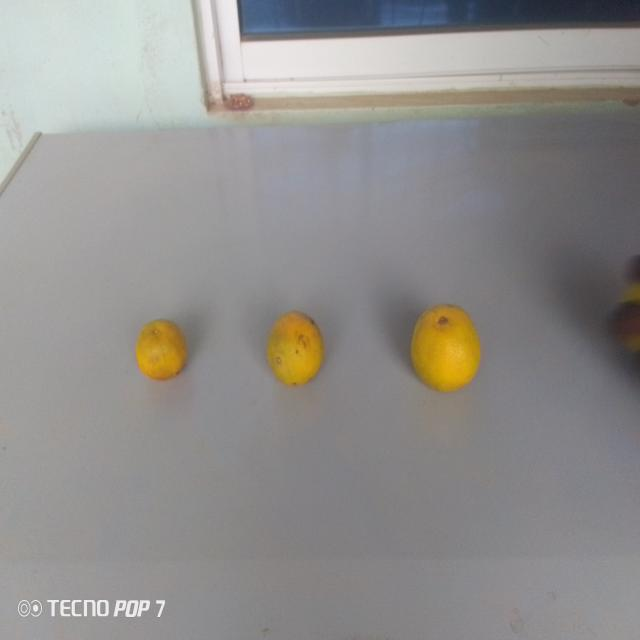Ripe orange: (397, 292, 486, 402), (258, 307, 331, 403), (127, 314, 198, 397)
